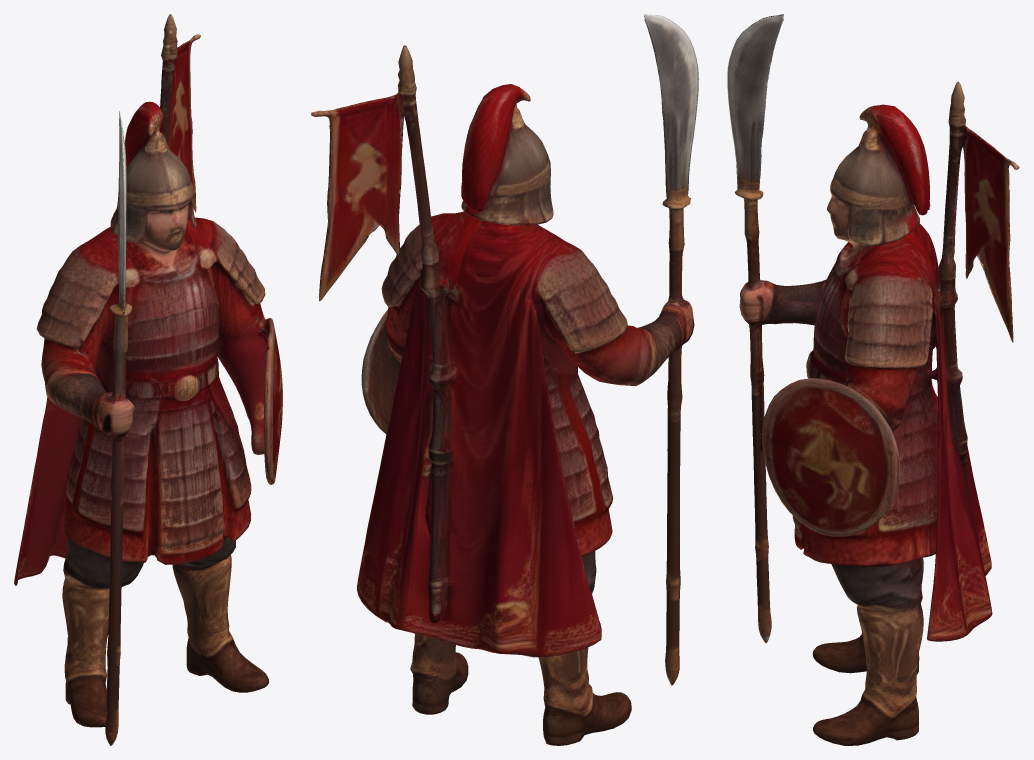
File: look-armor-t5-rodin.glb
3 renders of one model, left to right at view 1: azimuth 30°, elevation 25°; view 2: azimuth 150°, elevation 25°; view 3: azimuth 270°, elevation 25°, orthographic. The views are drawn at different scales.
Parts seen in each view (by area): view 1: model; view 2: model; view 3: model.
Boxes of the visible parts, box(x1,y1,x2,y2) form: model: box(14, 14, 282, 745); model: box(311, 14, 698, 745); model: box(727, 14, 1019, 745).
Size of the model in its own units: 0.7689 by 1.9 by 0.7746.
Materials: 1 (1 with a texture image).
